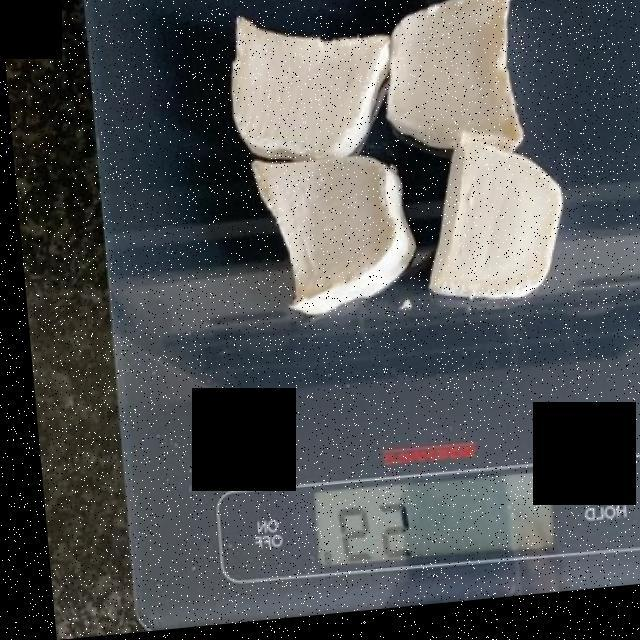cheese: (225, 0, 533, 323)
